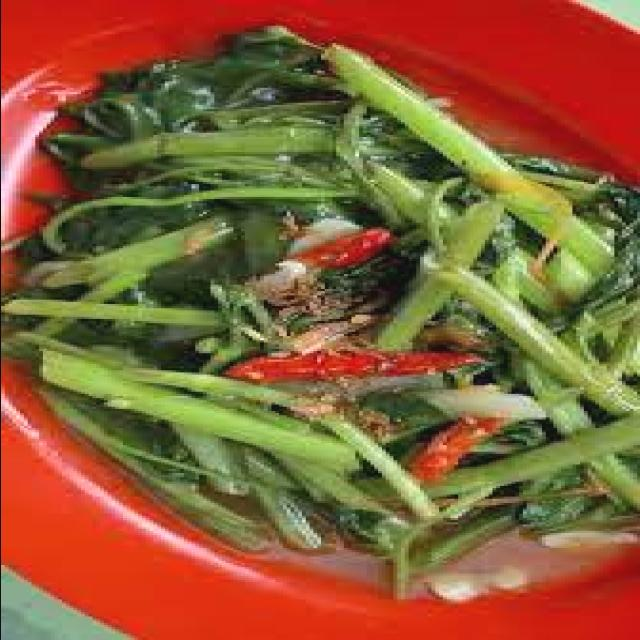tumis kangkung: (11, 41, 640, 595)
